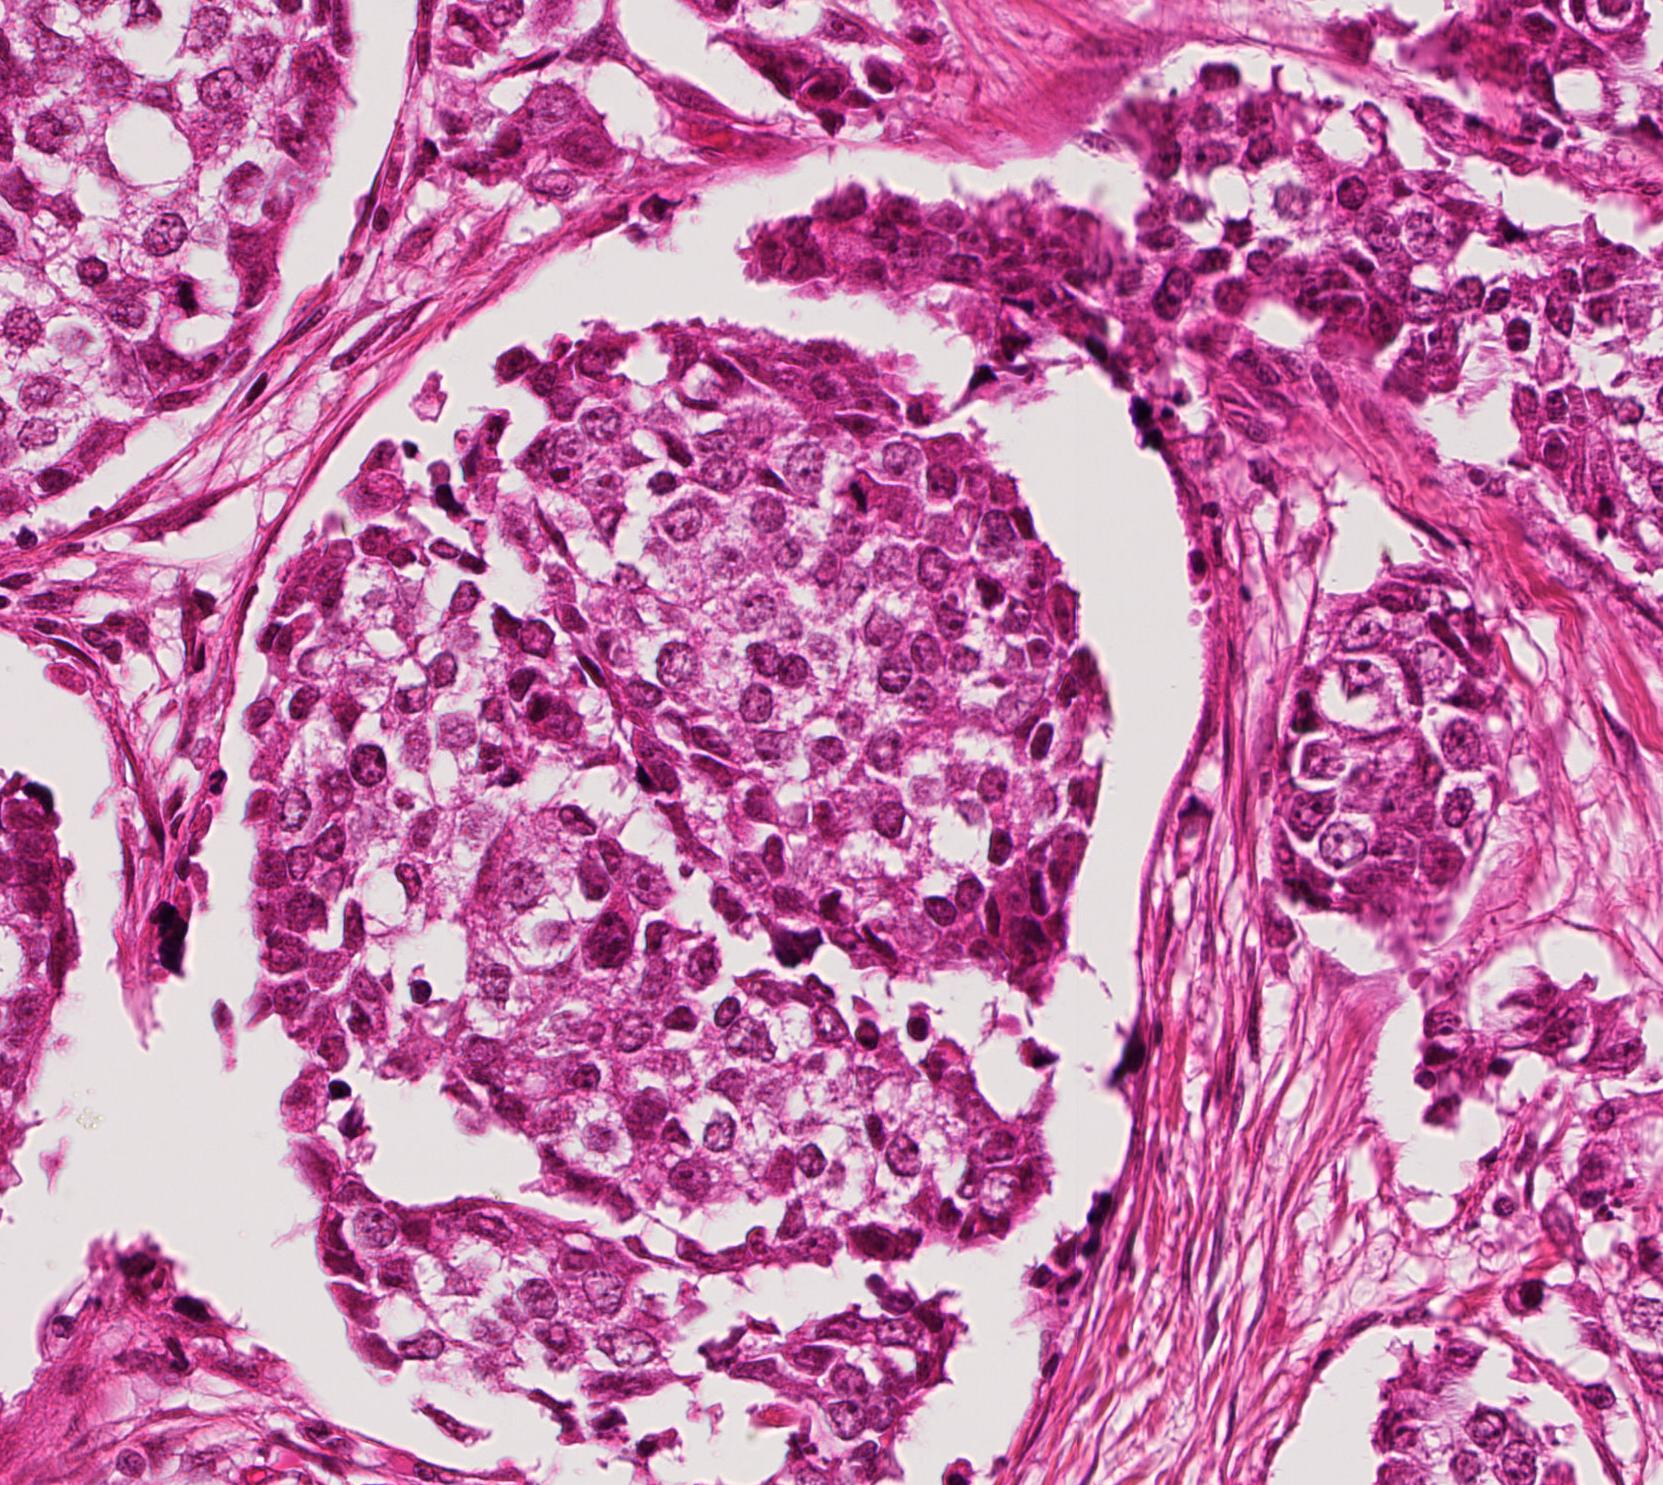mitosis: (830, 462, 890, 522), (162, 259, 222, 320)
